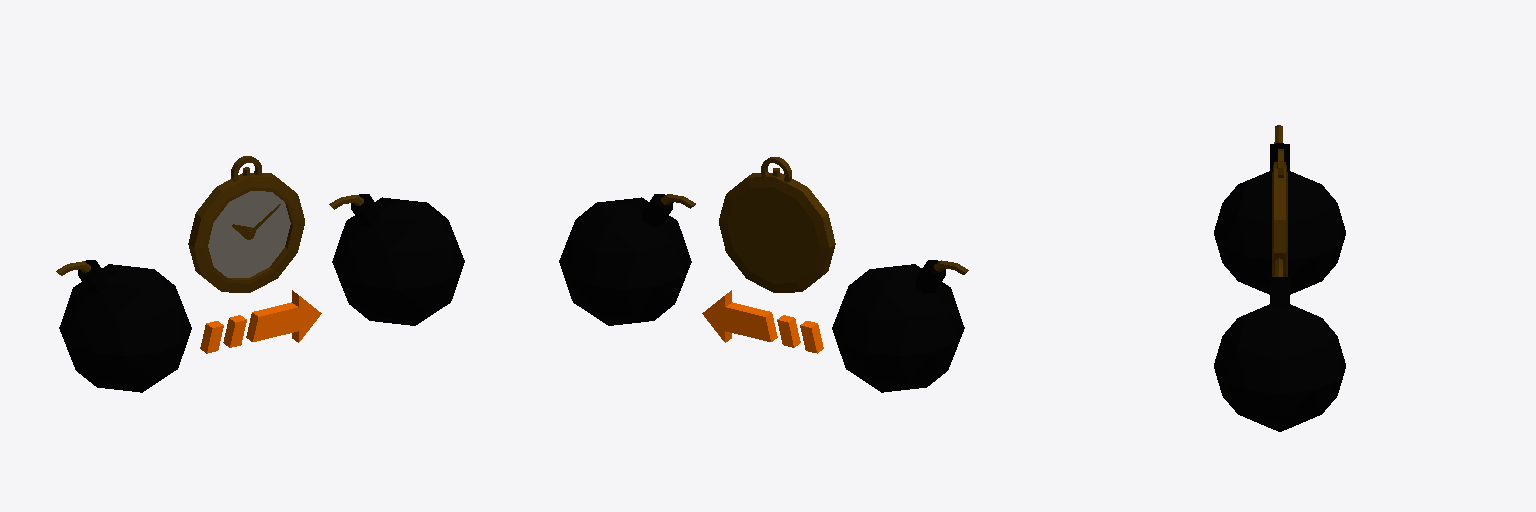
The model's file is time.obj.
3 renders of one model, left to right at view 1: azimuth 30°, elevation 25°; view 2: azimuth 150°, elevation 25°; view 3: azimuth 270°, elevation 25°, orthographic.
Parts seen in each view (by area): view 1: GeoSphere001, GeoSphere002, Cylinder005, Box003, Cylinder001, Cylinder003, Box002, Box004; view 2: GeoSphere001, GeoSphere002, Cylinder005, Box003, Cylinder001, Cylinder003, Box004, Box002; view 3: GeoSphere002, GeoSphere001, Cylinder005.
Boxes of the visible parts, x1,y1,x2,y2 form: GeoSphere001: [59, 264, 191, 392]; GeoSphere002: [332, 197, 464, 325]; Cylinder005: [188, 173, 304, 292]; Box003: [246, 290, 321, 342]; Cylinder001: [78, 260, 108, 293]; Cylinder003: [351, 194, 381, 226]; Box002: [223, 315, 246, 347]; Box004: [200, 321, 223, 353]; GeoSphere001: [832, 264, 964, 392]; GeoSphere002: [559, 197, 691, 325]; Cylinder005: [719, 173, 835, 292]; Box003: [702, 290, 777, 342]; Cylinder001: [915, 260, 945, 293]; Cylinder003: [642, 194, 673, 226]; Box004: [800, 321, 823, 353]; Box002: [777, 315, 800, 347]; GeoSphere002: [1214, 302, 1345, 431]; GeoSphere001: [1214, 170, 1345, 294]; Cylinder005: [1272, 162, 1287, 276].
Size of the model in its own units: 64.3 by 30.94 by 18.49.